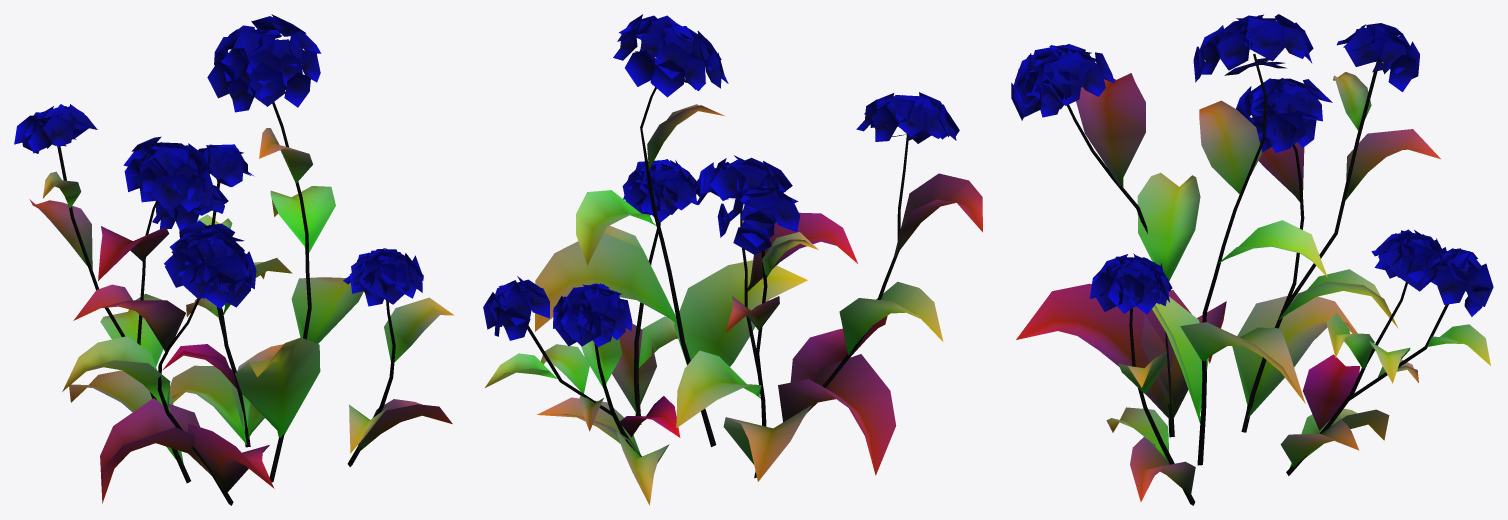
File: SM_WildCarrot_S_01.fbx
3 views of the same model, side by side, from view 1: azimuth 30°, elevation 25°; view 2: azimuth 150°, elevation 25°; view 3: azimuth 270°, elevation 25° (orthographic). The views are drawn at different scales.
Parts seen in each view (by area): view 1: SM_WildCarrot_S_01_LOD0; view 2: SM_WildCarrot_S_01_LOD0; view 3: SM_WildCarrot_S_01_LOD0.
Boxes of the visible parts, x1=… form: SM_WildCarrot_S_01_LOD0: x1=14, y1=14, x2=454, y2=505; SM_WildCarrot_S_01_LOD0: x1=483, y1=14, x2=982, y2=505; SM_WildCarrot_S_01_LOD0: x1=1011, y1=14, x2=1493, y2=505.
Size of the model in its own units: 68.31 by 68.79 by 72.75.
